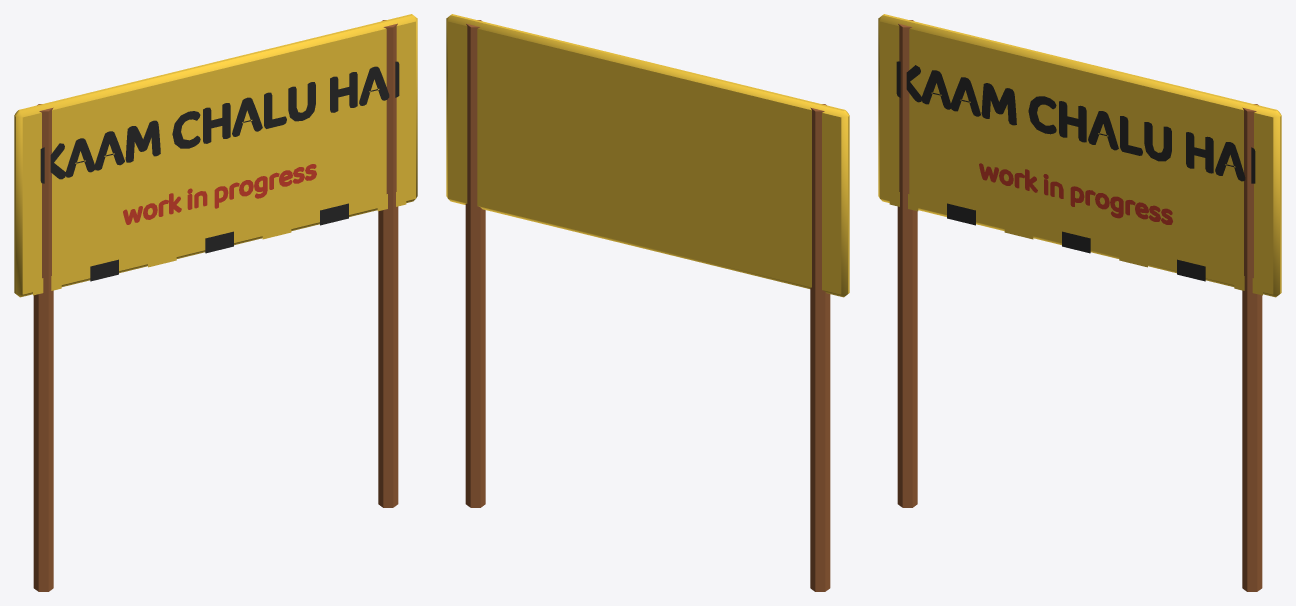
Rendered from growth_site_board.glb.
3 renders of one model, left to right at view 1: azimuth 30°, elevation 25°; view 2: azimuth 150°, elevation 25°; view 3: azimuth 330°, elevation 25°, orthographic.
Visible parts, largest first — view 1: growth_site_board; view 2: growth_site_board; view 3: growth_site_board.
Boxes of the visible parts, x1=… form: growth_site_board: x1=14, y1=14, x2=417, y2=591; growth_site_board: x1=446, y1=14, x2=849, y2=591; growth_site_board: x1=878, y1=14, x2=1281, y2=591.
Bounding box in the file's own units: 1.4 × 1.61 × 0.06.
1 material, 1 textured.
